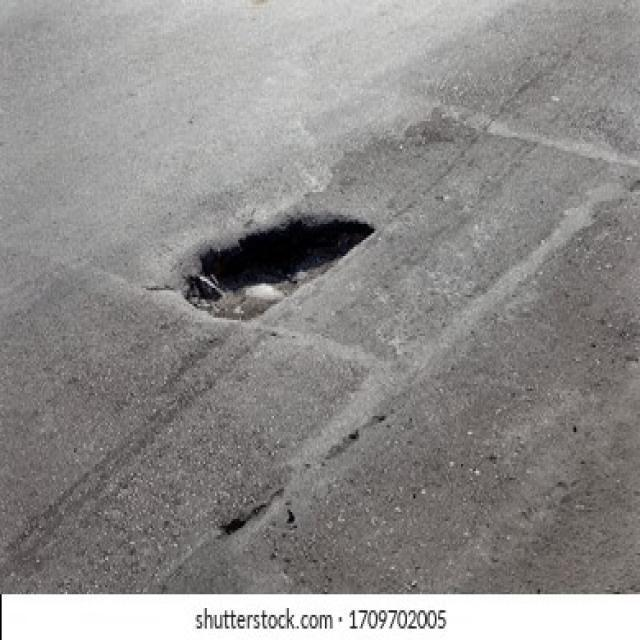Buraco: (177, 212, 381, 326)
